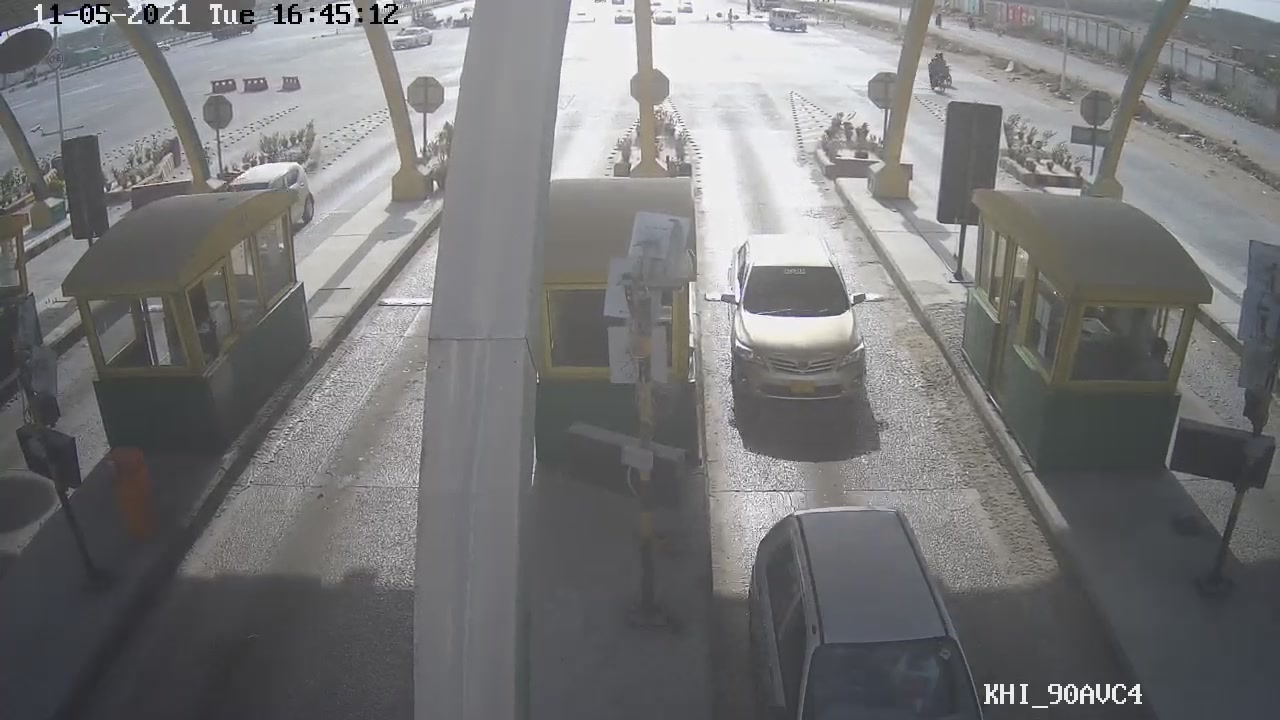F1: (717, 231, 876, 410)
